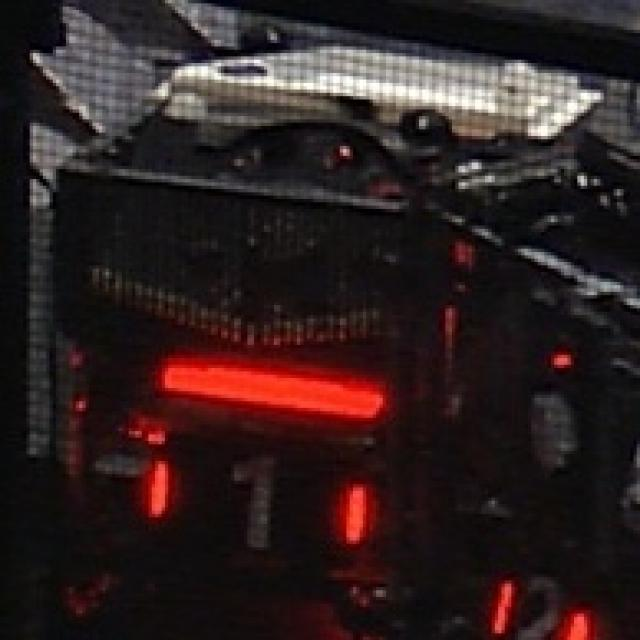R1: (148, 438, 386, 550)
